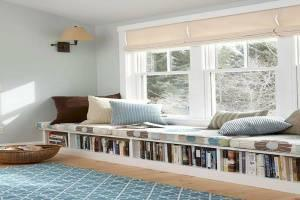window: (138, 39, 282, 122)
